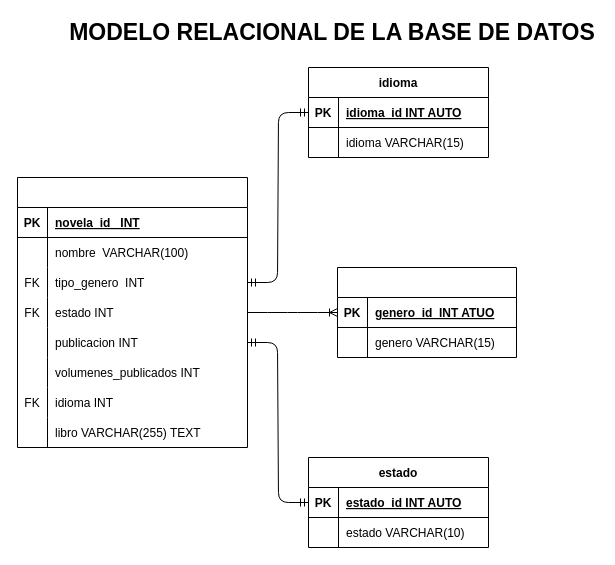
Image size: 615x565. Some labels were removed from this diagram. The box of each missing label's shape, as (x1, y1, x2, y2) in pixels:
novelas_ligeras: (16, 176, 248, 448)
tipo_genero: (336, 266, 516, 358)
